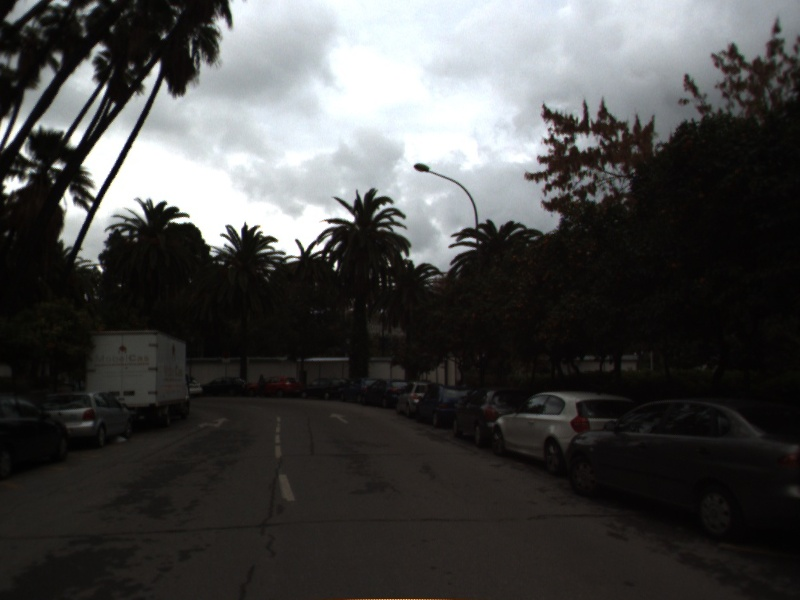STRAIGHT: (327, 410, 351, 426)
STRAIGHT_LEFT: (195, 415, 233, 431)
